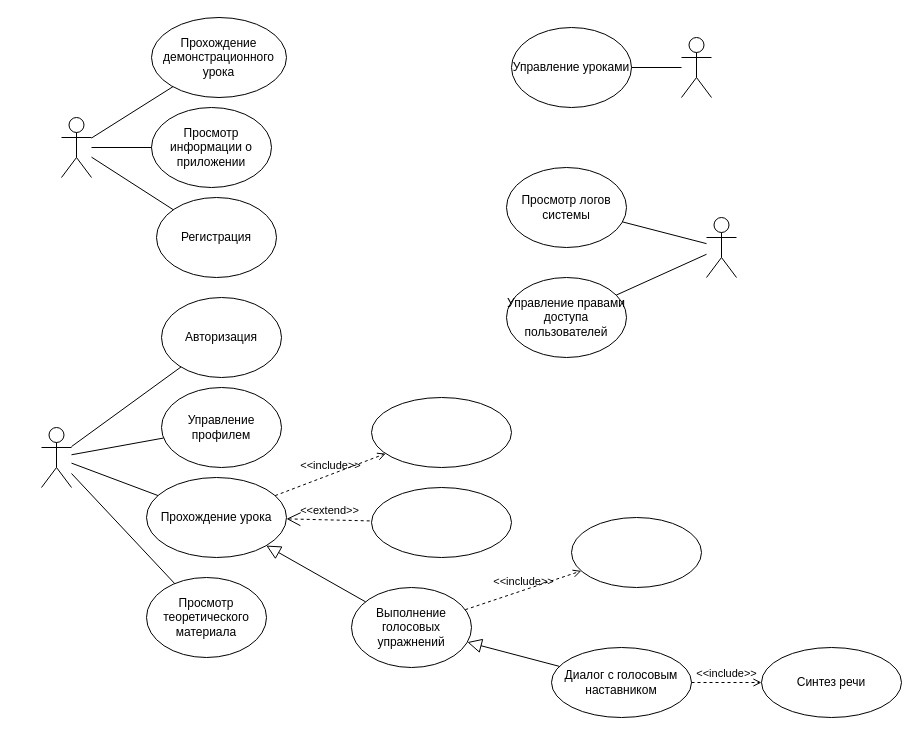
This 919x735 diagram has some shape labels left out. The centre of each missing label's shape, as x and y in pixels:
"Администратор" goes at point 721,247.
"Гость" goes at point 76,147.
"Запись и распознавание речи" goes at point 636,552.
"Методист" goes at point 696,67.
"Начисление баллов" goes at point 441,432.
"Пользователь" goes at point 56,457.
"Просмотр подсказки" goes at point 441,522.
